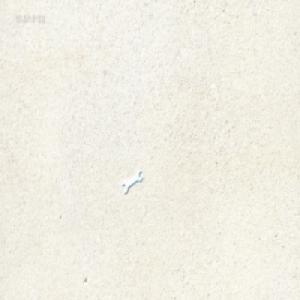Wrench: (121, 169, 143, 195)
